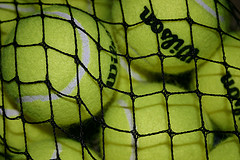tennis ball: (3, 6, 122, 130), (99, 80, 213, 160), (110, 1, 231, 74)
